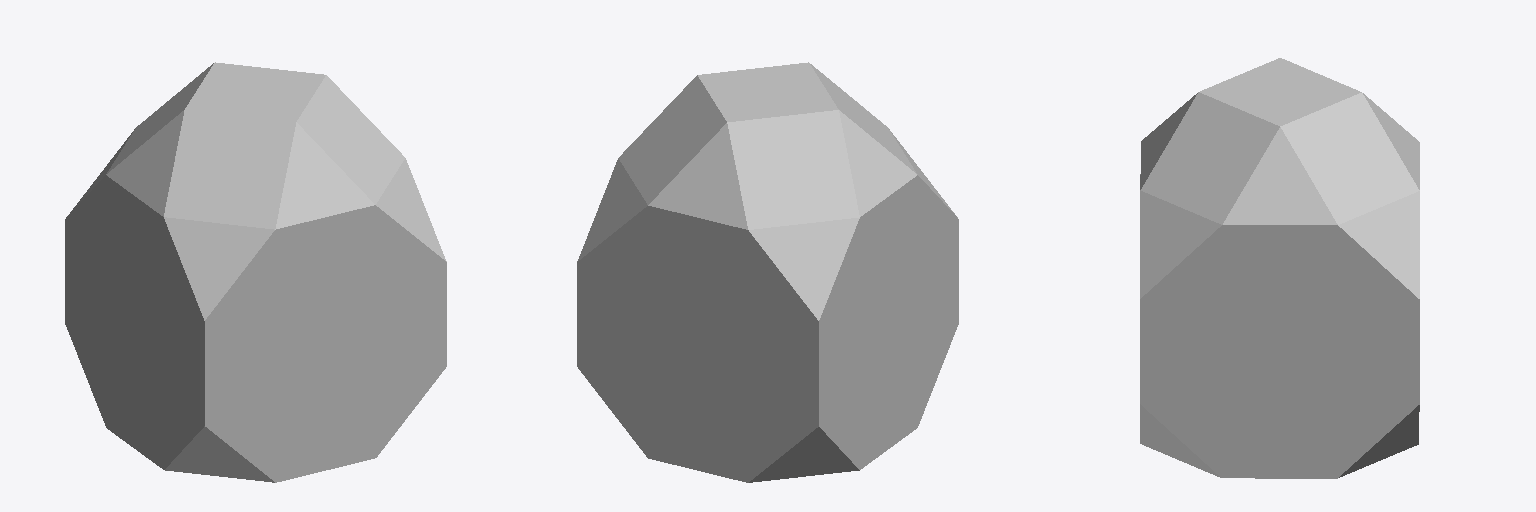
Rendered from AugmentedTruncatedCube.obj.
3 views of the same model, side by side, from view 1: azimuth 30°, elevation 25°; view 2: azimuth 150°, elevation 25°; view 3: azimuth 270°, elevation 25° (orthographic).
Visible parts, largest first — view 1: AugmentedTruncatedCube; view 2: AugmentedTruncatedCube; view 3: AugmentedTruncatedCube.
Boxes of the visible parts, x1,y1,x2,y2 form: AugmentedTruncatedCube: [65, 62, 446, 482]; AugmentedTruncatedCube: [577, 62, 958, 482]; AugmentedTruncatedCube: [1140, 58, 1419, 478].
Size of the model in its own units: 1.81 by 2.34 by 1.81.